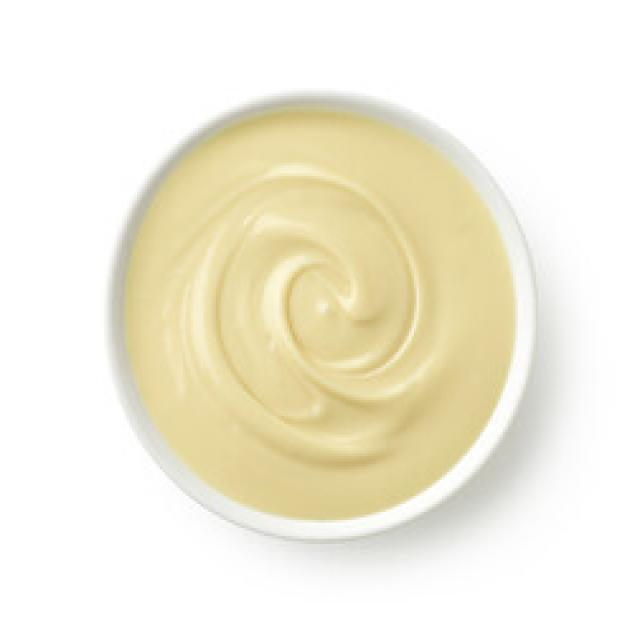Chocolate: (121, 99, 518, 525)
